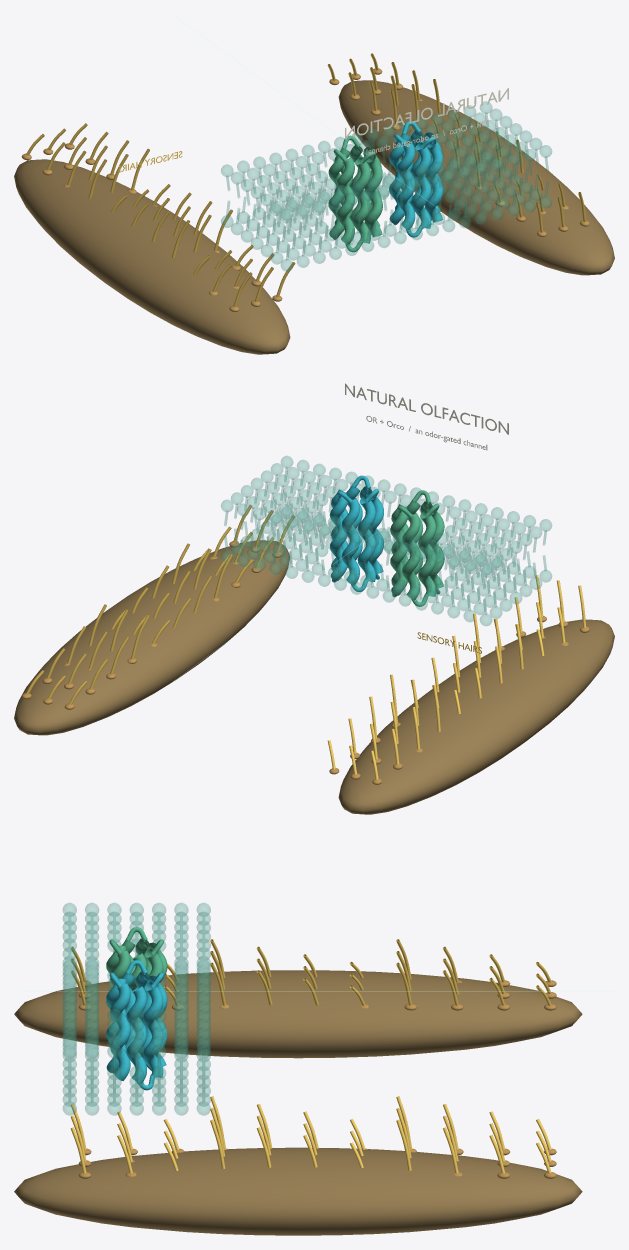
The model's file is aerosense_02_olfaction_v4.glb.
3 views of the same model, one above another, from view 1: azimuth 30°, elevation 25°; view 2: azimuth 150°, elevation 25°; view 3: azimuth 270°, elevation 25° (orthographic). The views are drawn at different scales.
Parts seen in each view (by area): view 1: membrane_surface.001, Antenna_surface, Antenna_surface.001, or_surface.001, orco_surface.001, Natural_heading; view 2: membrane_surface.001, Antenna_surface, Antenna_surface.001, or_surface.001, orco_surface.001, Natural_heading; view 3: Antenna_surface.001, Antenna_surface, membrane_surface.001, orco_surface.001, or_surface.001.
Boxes of the visible parts, x1,y1,x2,y2 form: membrane_surface.001: (221, 101, 551, 271); Antenna_surface: (14, 159, 290, 354); Antenna_surface.001: (338, 80, 614, 275); or_surface.001: (328, 135, 382, 252); orco_surface.001: (389, 121, 443, 237); Natural_heading: (345, 88, 508, 139); membrane_surface.001: (221, 456, 551, 625); Antenna_surface: (338, 619, 614, 814); Antenna_surface.001: (14, 540, 289, 735); or_surface.001: (390, 490, 444, 606); orco_surface.001: (329, 475, 383, 591); Natural_heading: (345, 383, 508, 434); Antenna_surface.001: (14, 1147, 582, 1235); Antenna_surface: (14, 970, 582, 1058); membrane_surface.001: (62, 903, 210, 1115); orco_surface.001: (106, 960, 167, 1090); or_surface.001: (106, 927, 167, 1044).
Bounding box in the file's own units: 8.7 × 4.22 × 9.3.
